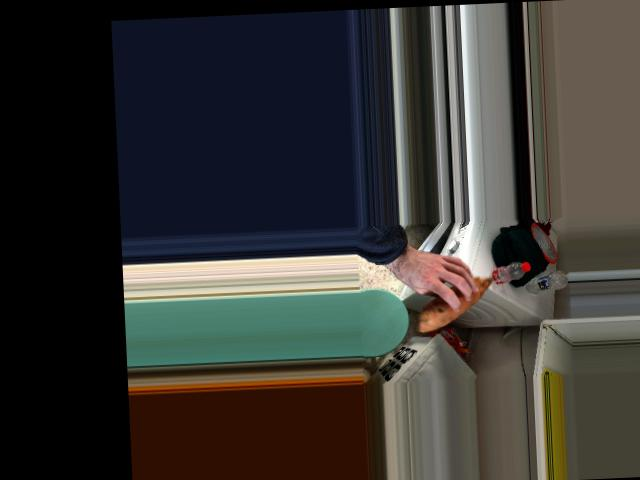sweet_potato: (426, 267, 491, 331)
